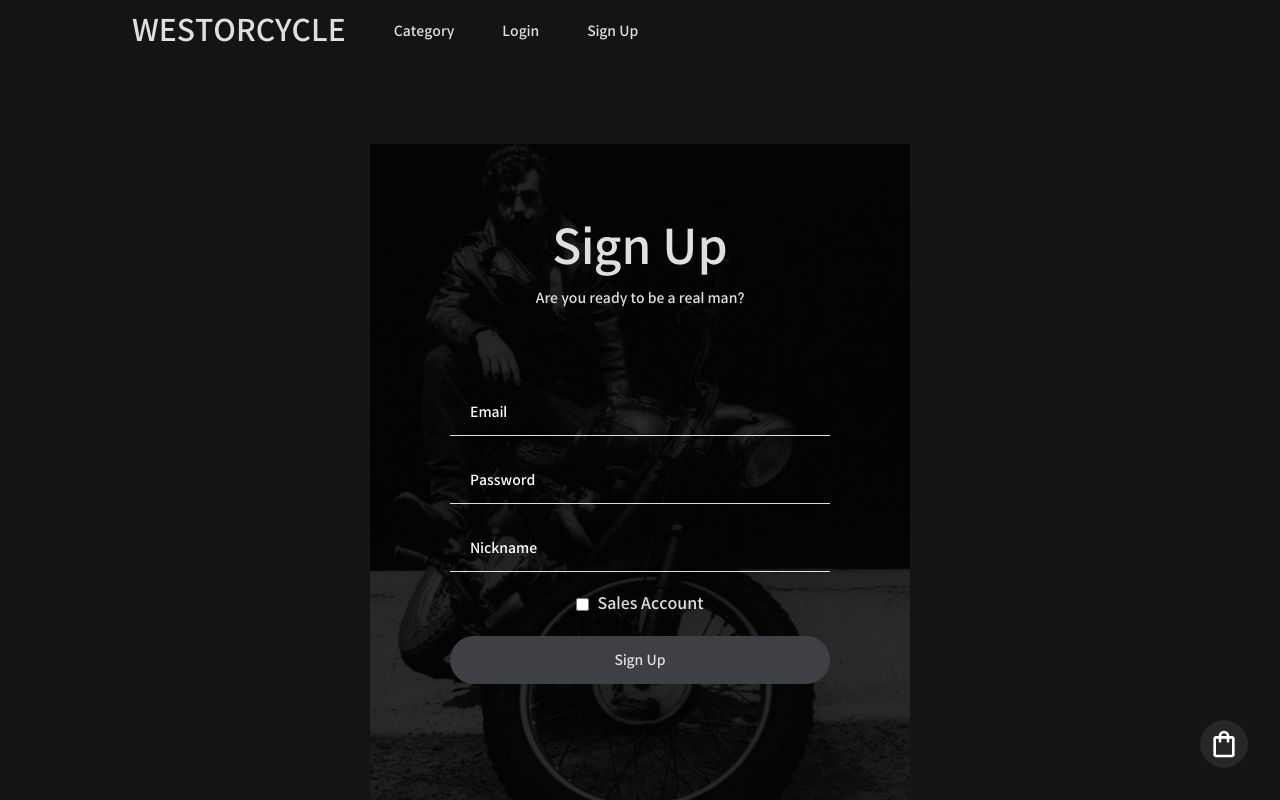
Scenario: SignUp › should display an error message when email is too short
Type "test@test.com" into the field with id "email-signup" at (640, 412), box [450,388,830,436]
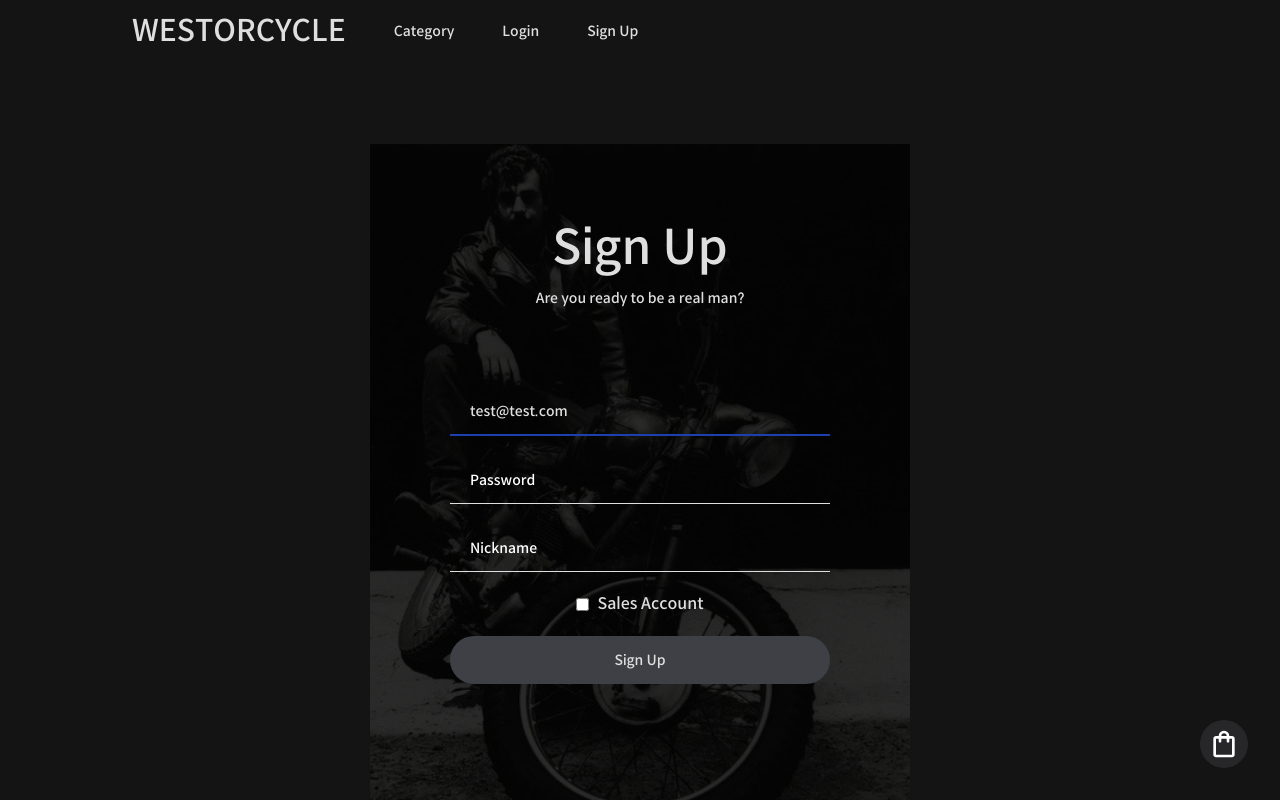
Type "test" into the field with id "nickname-signup" at (640, 548), box [450,524,830,572]
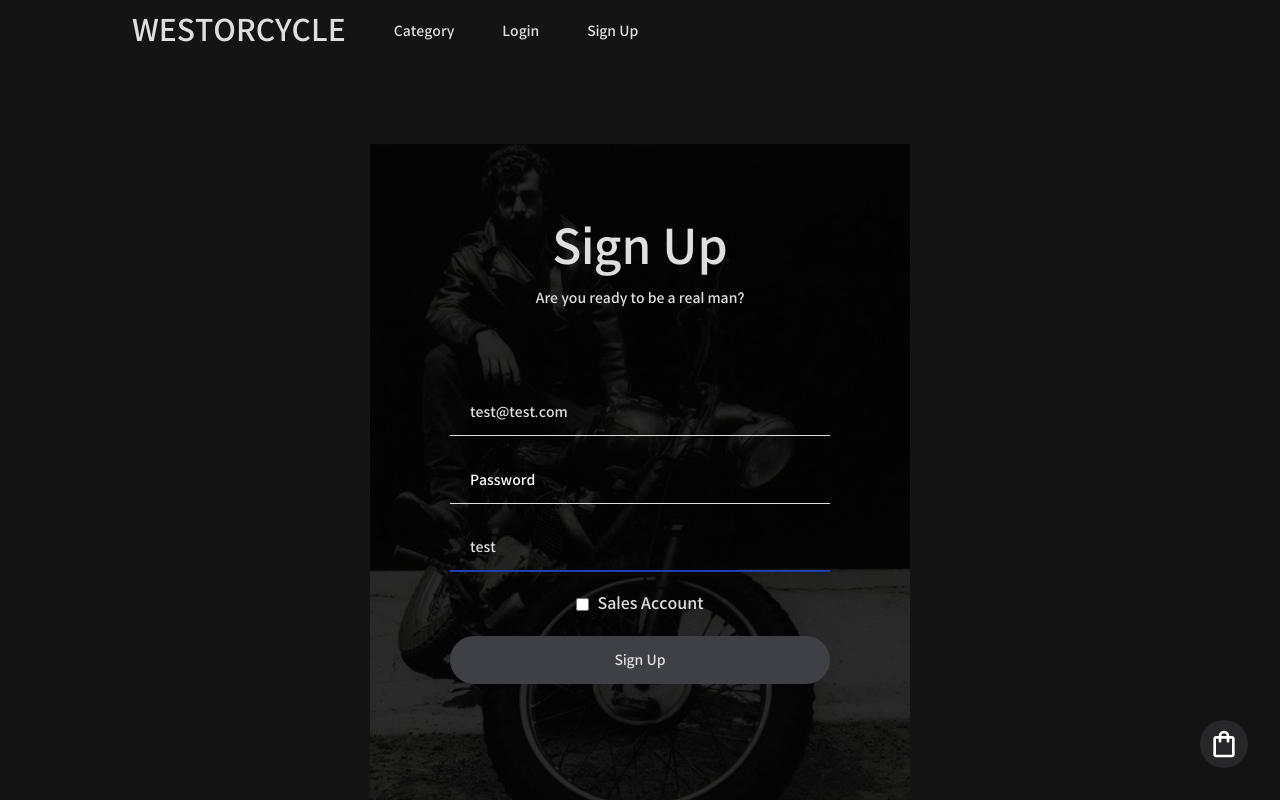
Type "Testtesttest1@" into the password field with placeholder "Password" at (640, 480), box [450,456,830,504]
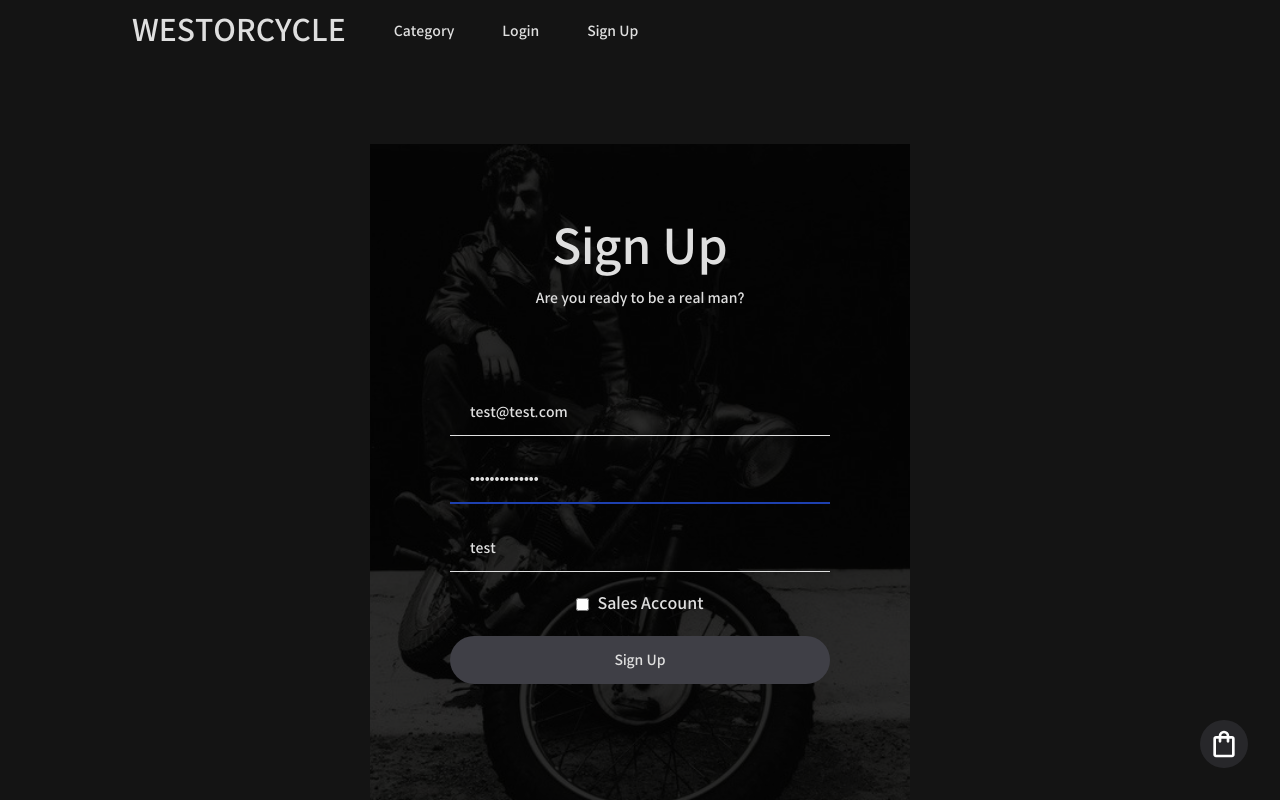
Replace the text in the field with id "email-signup" with "t" at (640, 412), box [450,388,830,436]
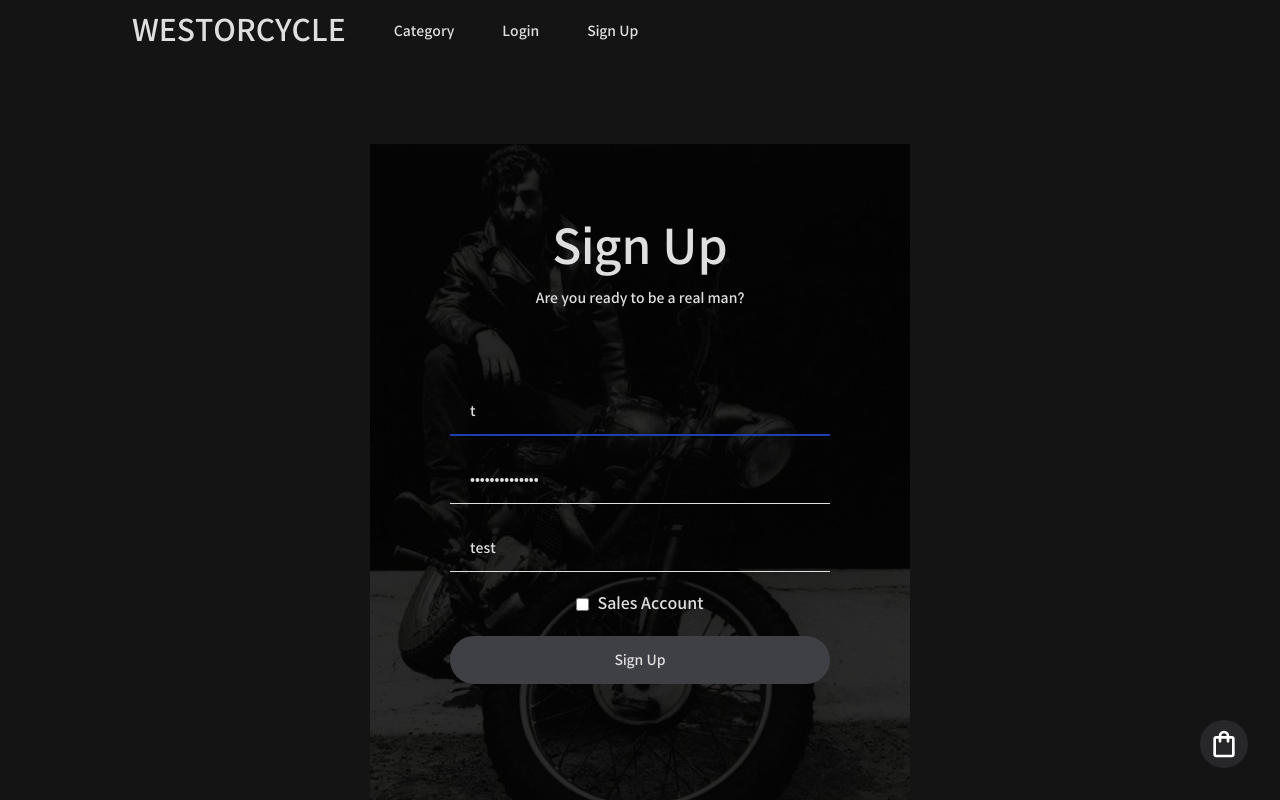
Click the button with id "signUpButton" at (640, 660), box [450,636,830,684]
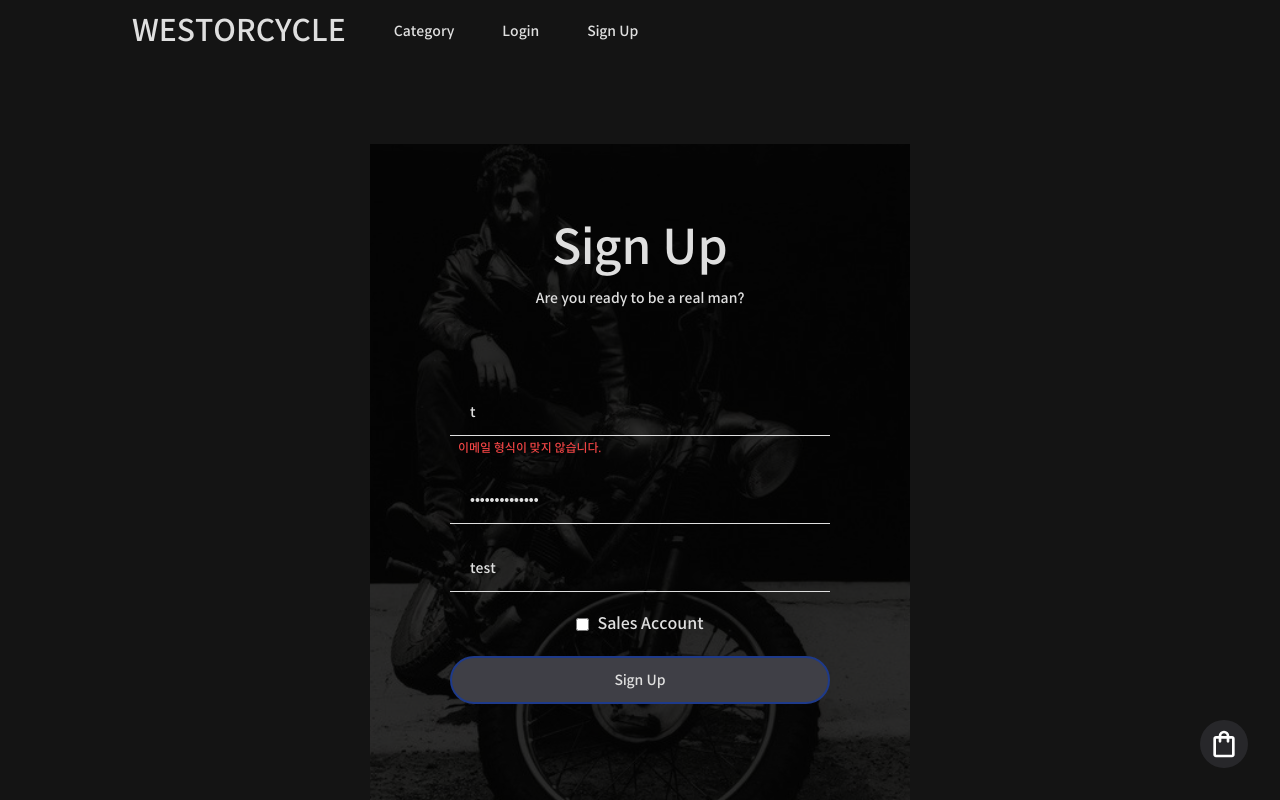
expect the text "이메일 형식이 맞지 않습니다." is shown: met, box [458,440,602,455]
